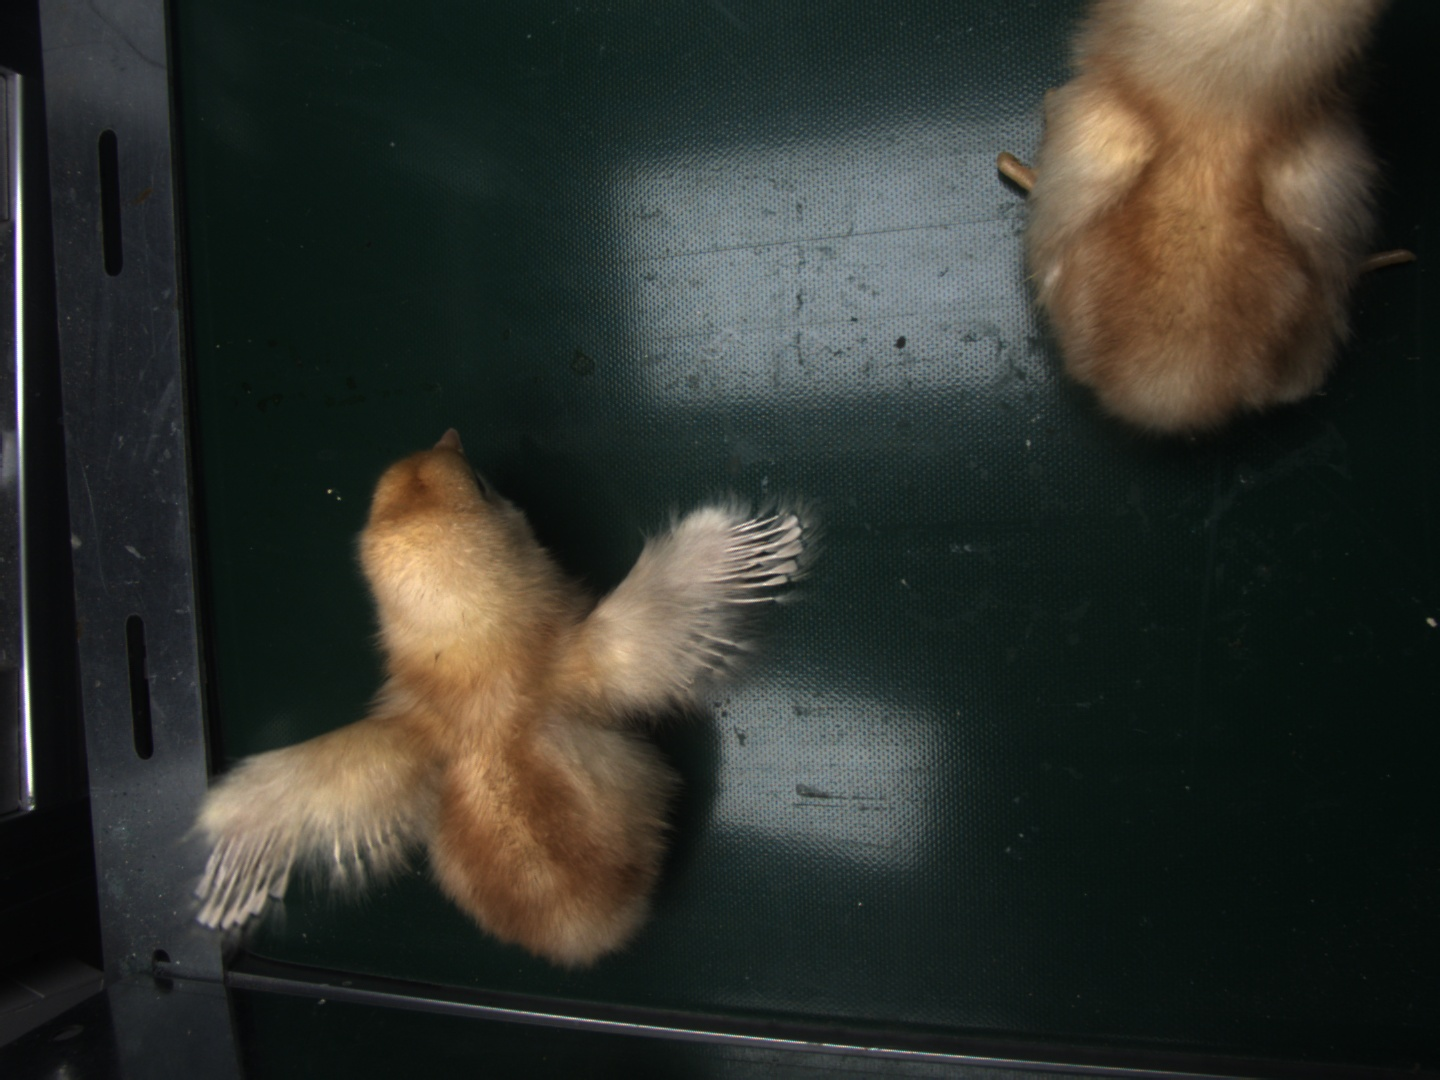female: (719, 514, 804, 599)
